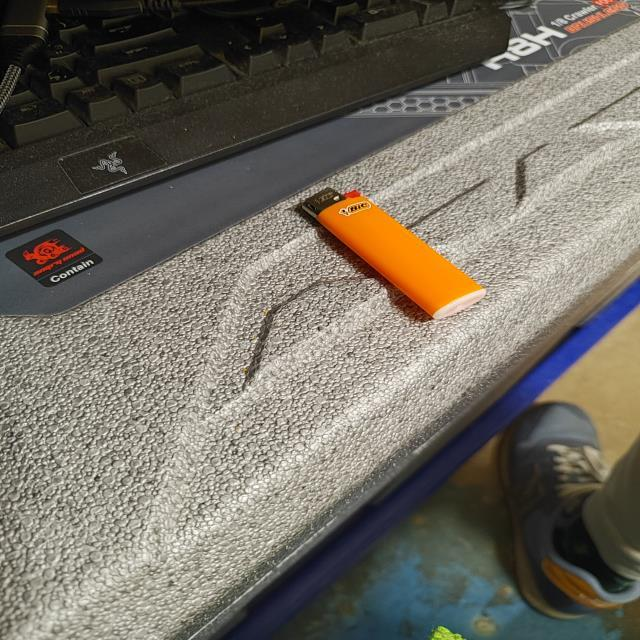lighter: (300, 188, 484, 317)
